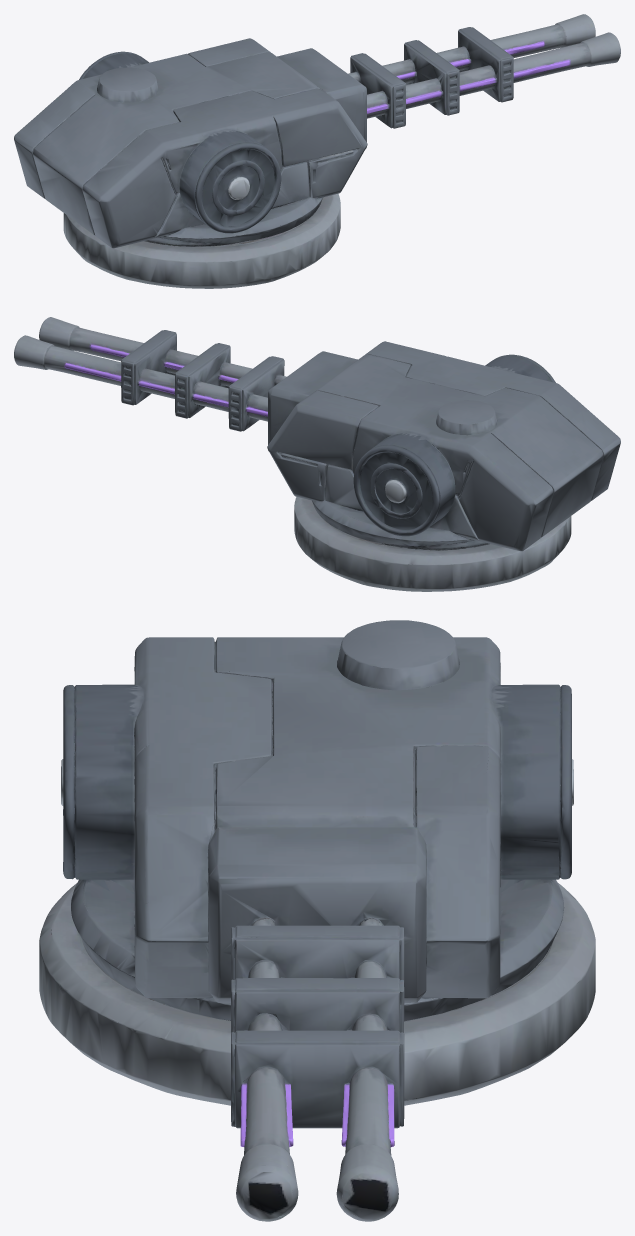
Rendered from weapon-twin-1-full.glb.
3 views of the same model, one above another, from view 1: azimuth 30°, elevation 25°; view 2: azimuth 150°, elevation 25°; view 3: azimuth 270°, elevation 25° (orthographic). The views are drawn at different scales.
Parts seen in each view (by area): view 1: weapon-twin-1-full; view 2: weapon-twin-1-full; view 3: weapon-twin-1-full.
Part boxes in pixels (bbox=[...]): weapon-twin-1-full: bbox=[14, 14, 620, 288]; weapon-twin-1-full: bbox=[14, 317, 620, 591]; weapon-twin-1-full: bbox=[39, 620, 595, 1221].
Size of the model in its own units: 2.56 by 0.6867 by 1.13.
Materials: 1 (1 with a texture image).
